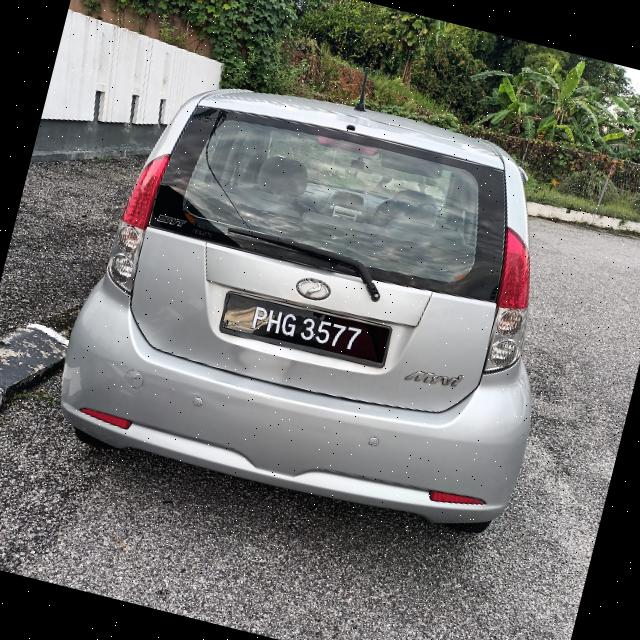License_Plate: (222, 292, 385, 375)
